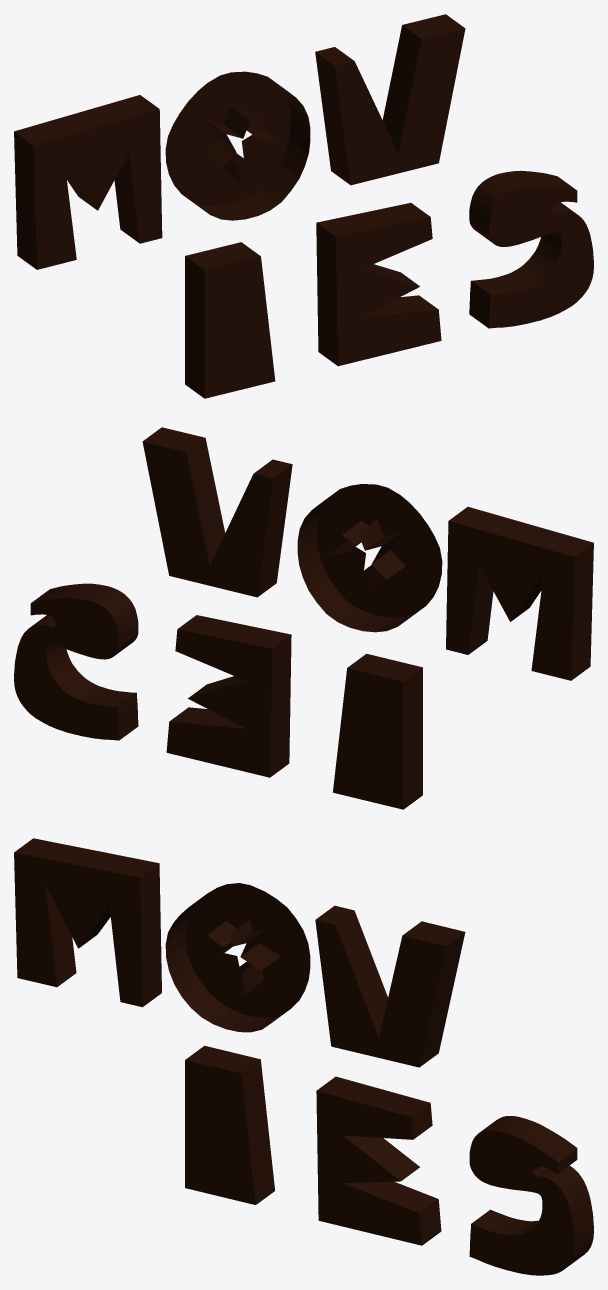
File: movie3.glb
3 views of the same model, one above another, from view 1: azimuth 30°, elevation 25°; view 2: azimuth 150°, elevation 25°; view 3: azimuth 330°, elevation 25° (orthographic).
Parts seen in each view (by area): view 1: M, O, V, E, S, I; view 2: M, O, V, E, S, I; view 3: M, O, V, E, S, I.
Part boxes in pixels (x1,y1,x2,y2): M: (14, 95, 162, 269); O: (165, 71, 310, 220); V: (315, 14, 465, 185); E: (316, 203, 441, 366); S: (469, 170, 593, 328); I: (185, 242, 275, 398); M: (446, 507, 593, 680); O: (297, 484, 442, 632); V: (142, 427, 292, 597); E: (166, 615, 291, 777); S: (14, 583, 138, 740); I: (333, 653, 422, 809); M: (14, 838, 161, 1007); O: (165, 883, 310, 1032); V: (315, 905, 465, 1067); E: (316, 1076, 441, 1245); S: (469, 1116, 593, 1275); I: (185, 1045, 274, 1204).
Bounding box in the file's own units: 10.1 × 5.34 × 0.6441.
